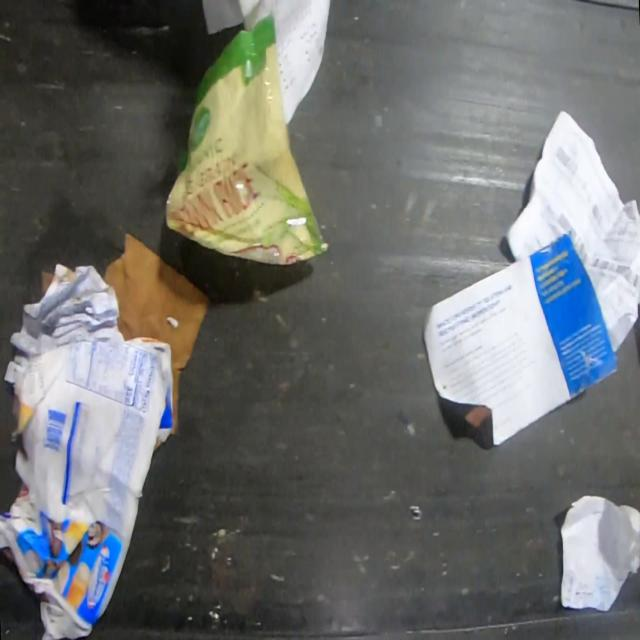cardboard: (0, 338, 175, 639), (102, 233, 210, 435)
soft_plastic: (164, 16, 326, 270)
